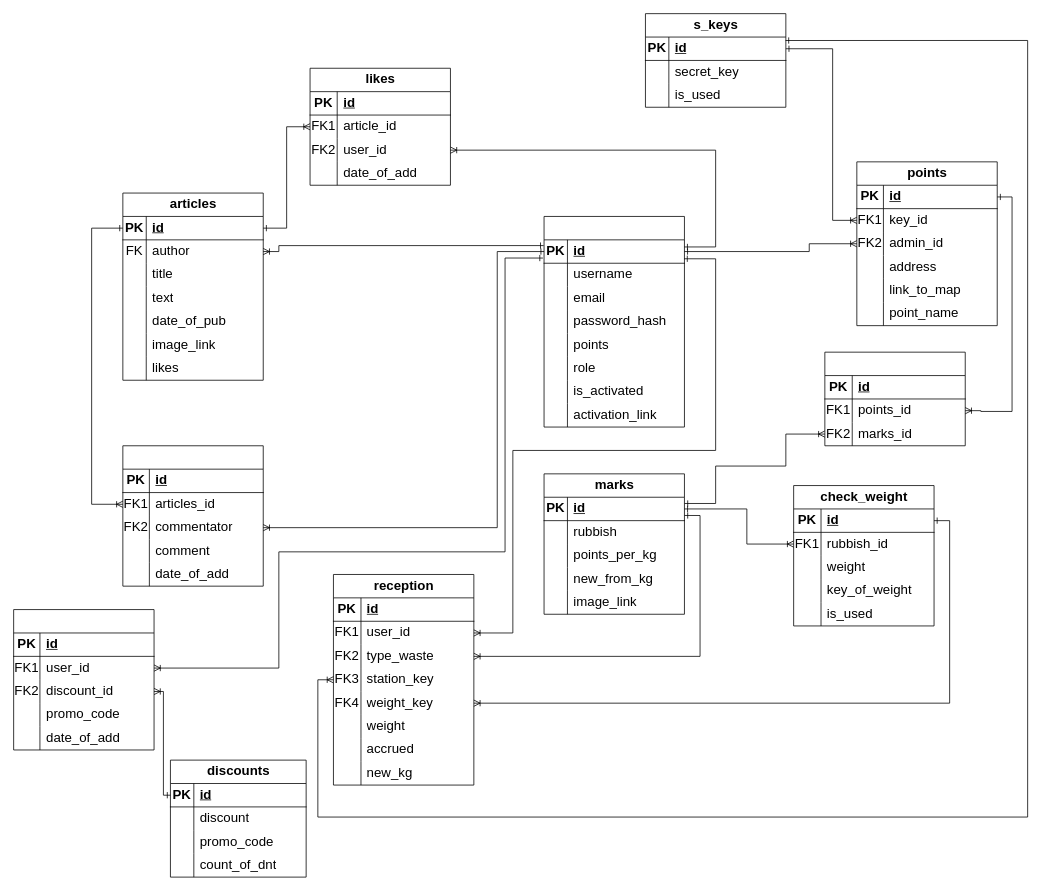
Image size: 1048x891. Some labels were removed from this diagram. Each missing label, with the box of its shape:
points_marks: (824, 351, 965, 446)
promo_codes: (13, 609, 154, 750)
ratings: (122, 445, 263, 586)
users: (543, 216, 684, 427)
